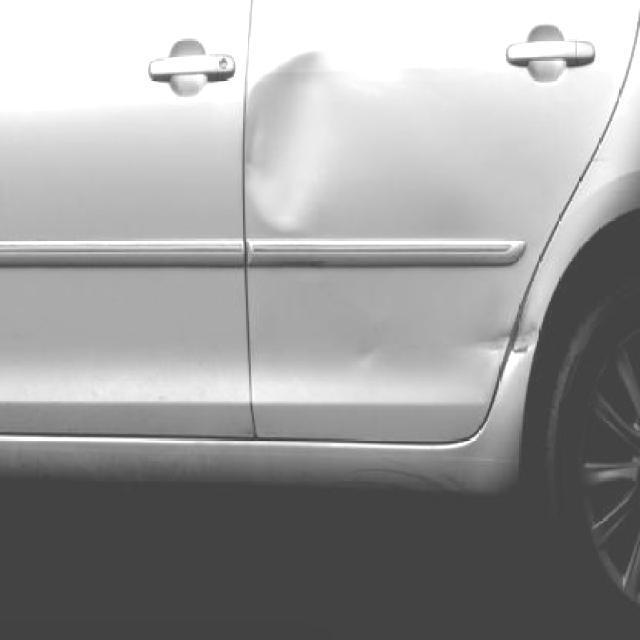minor: (246, 43, 385, 232), (474, 315, 517, 348), (345, 346, 380, 368)
